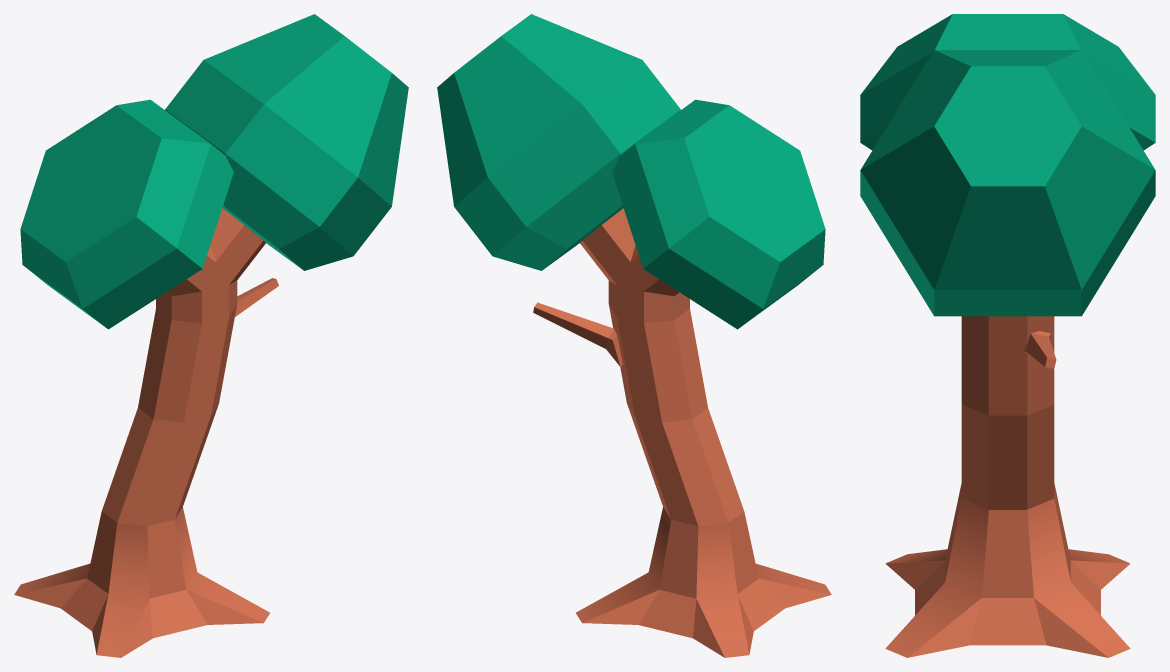
Rendered from tree.fbx.
The picture shows the model from 3 angles, left to right: view 1: azimuth 30°, elevation 25°; view 2: azimuth 150°, elevation 25°; view 3: azimuth 270°, elevation 25°; orthographic projection. The views are drawn at different scales.
Visible parts, largest first — view 1: mergedBlocks; view 2: mergedBlocks; view 3: mergedBlocks.
Boxes of the visible parts, left/top/right/bottom form: mergedBlocks: left=14, top=14, right=408, bottom=657; mergedBlocks: left=437, top=14, right=831, bottom=657; mergedBlocks: left=860, top=14, right=1155, bottom=657.
Bounding box in the file's own units: 19.37 × 28.13 × 11.55.
